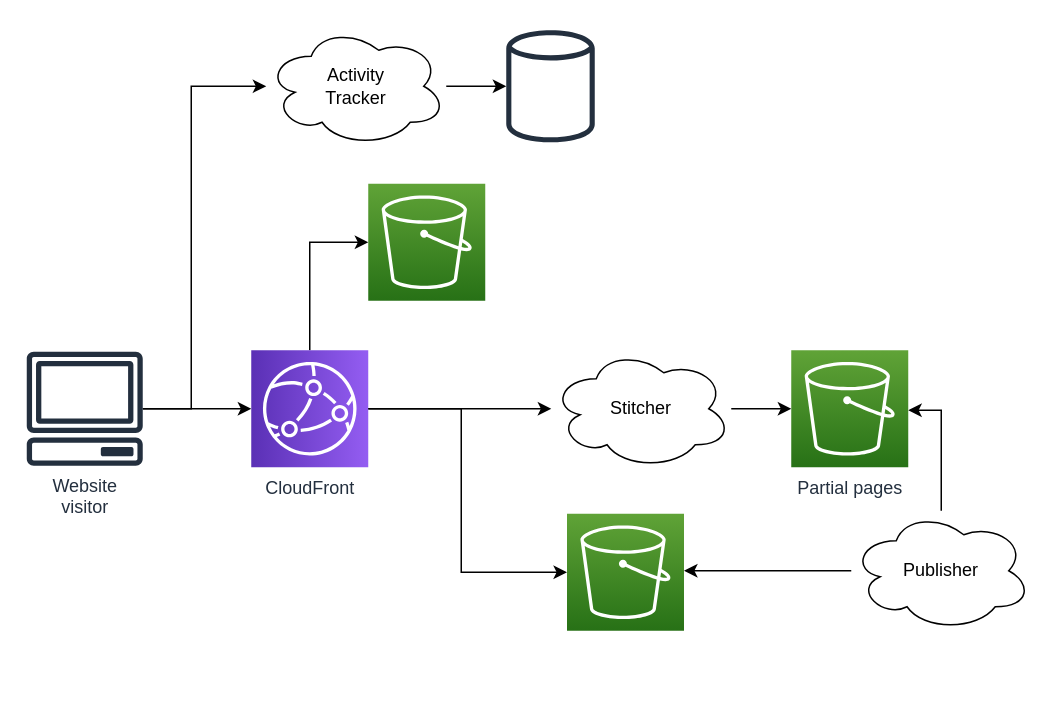
Image size: 1058x711. Some labels were removed from this diagram. Each missing label, with the centre of its shape:
CloudFront Logs: point (426, 241)
Static resources (images, css): point (625, 571)
User Data: point (550, 85)
